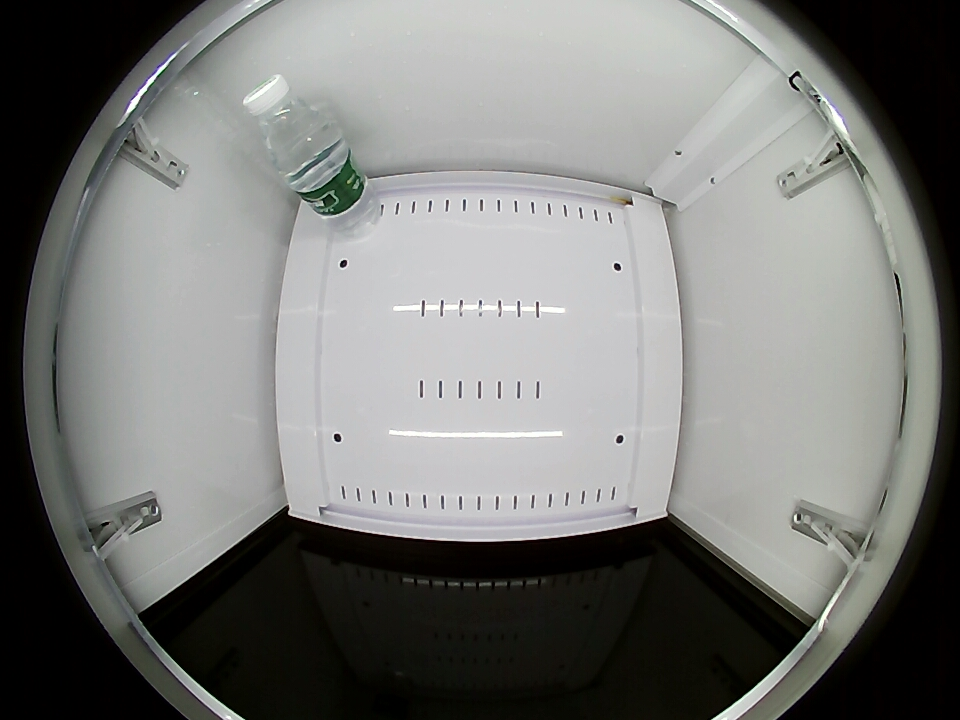yibao: (242, 74, 337, 169)
